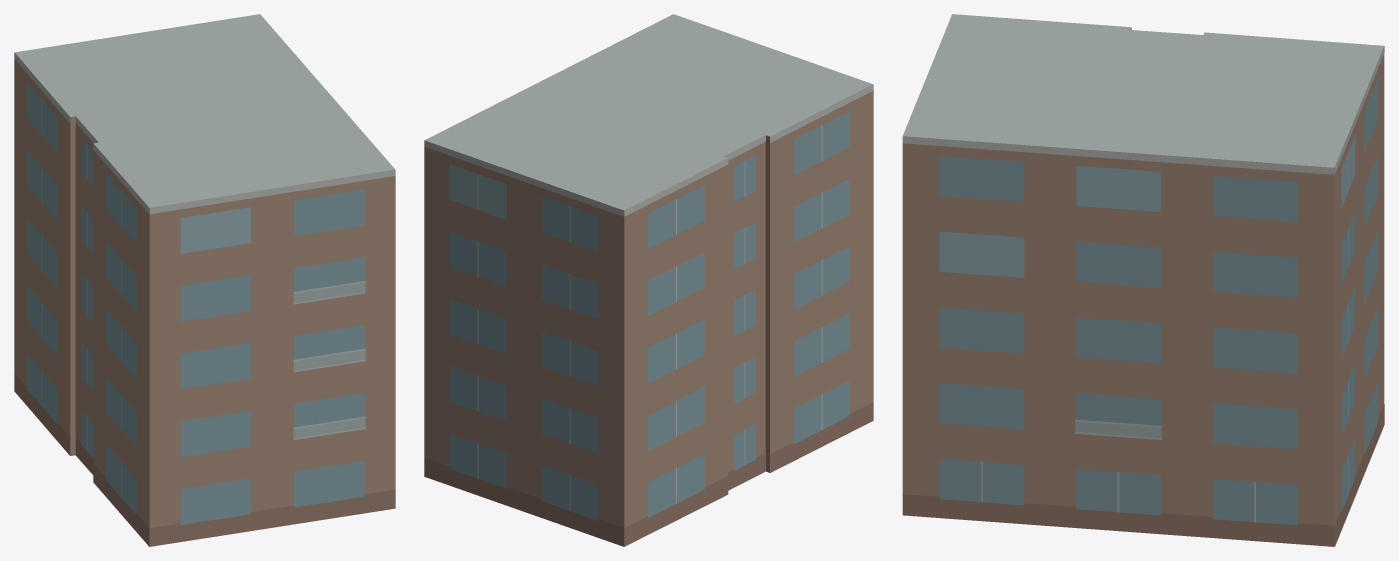
Rendered from survey-upis-32664576.glb.
3 views of the same model, side by side, from view 1: azimuth 30°, elevation 25°; view 2: azimuth 150°, elevation 25°; view 3: azimuth 270°, elevation 25° (orthographic). The views are drawn at different scales.
Visible parts, largest first — view 1: survey-upis-32664576.tmp; view 2: survey-upis-32664576.tmp; view 3: survey-upis-32664576.tmp.
Part boxes in pixels (x1,y1,x2,y2): survey-upis-32664576.tmp: [14, 14, 395, 546]; survey-upis-32664576.tmp: [424, 14, 873, 546]; survey-upis-32664576.tmp: [902, 14, 1384, 546].
Bounding box in the file's own units: 11.32 × 13 × 14.99.
